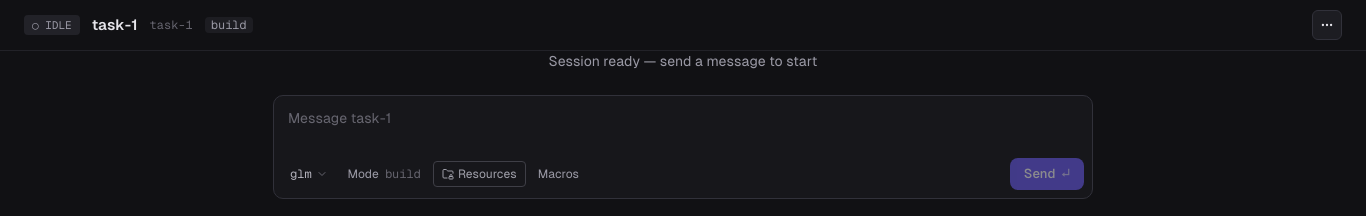
Test: NativeAgentPanel › offers the modes from the composer's mode button
The image size is (1366, 216).
Step 1. Click the button titled "Change mode" → (384, 174), box [340,160,429,188]
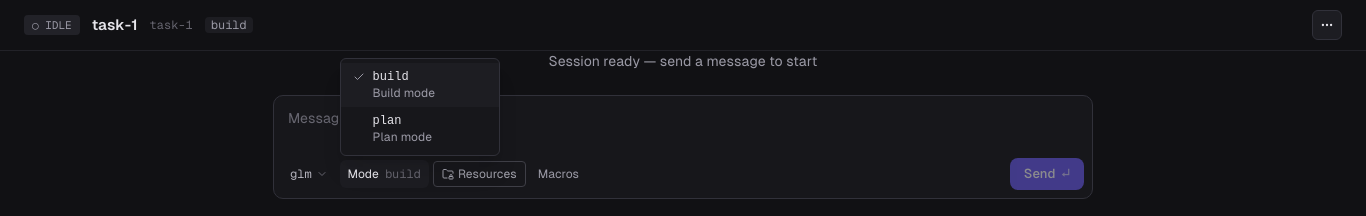
expect the text "plan" is shown: met, box [373,114,401,128]
